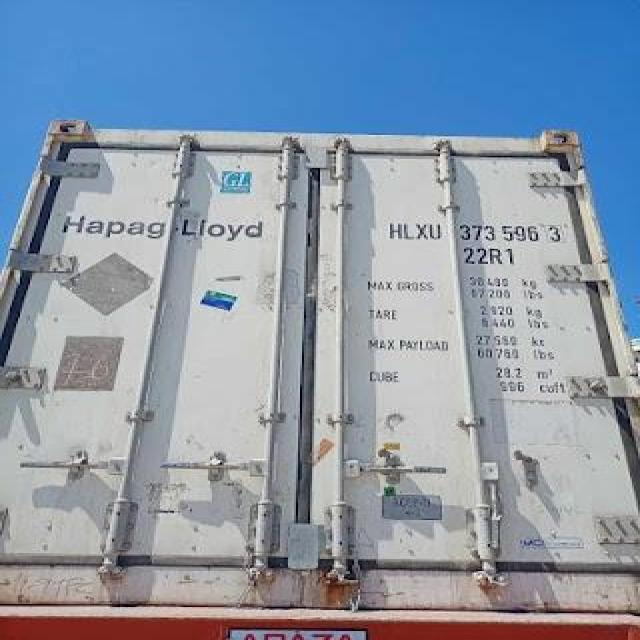ISO: (463, 246, 518, 266)
container_number: (387, 222, 560, 243)
